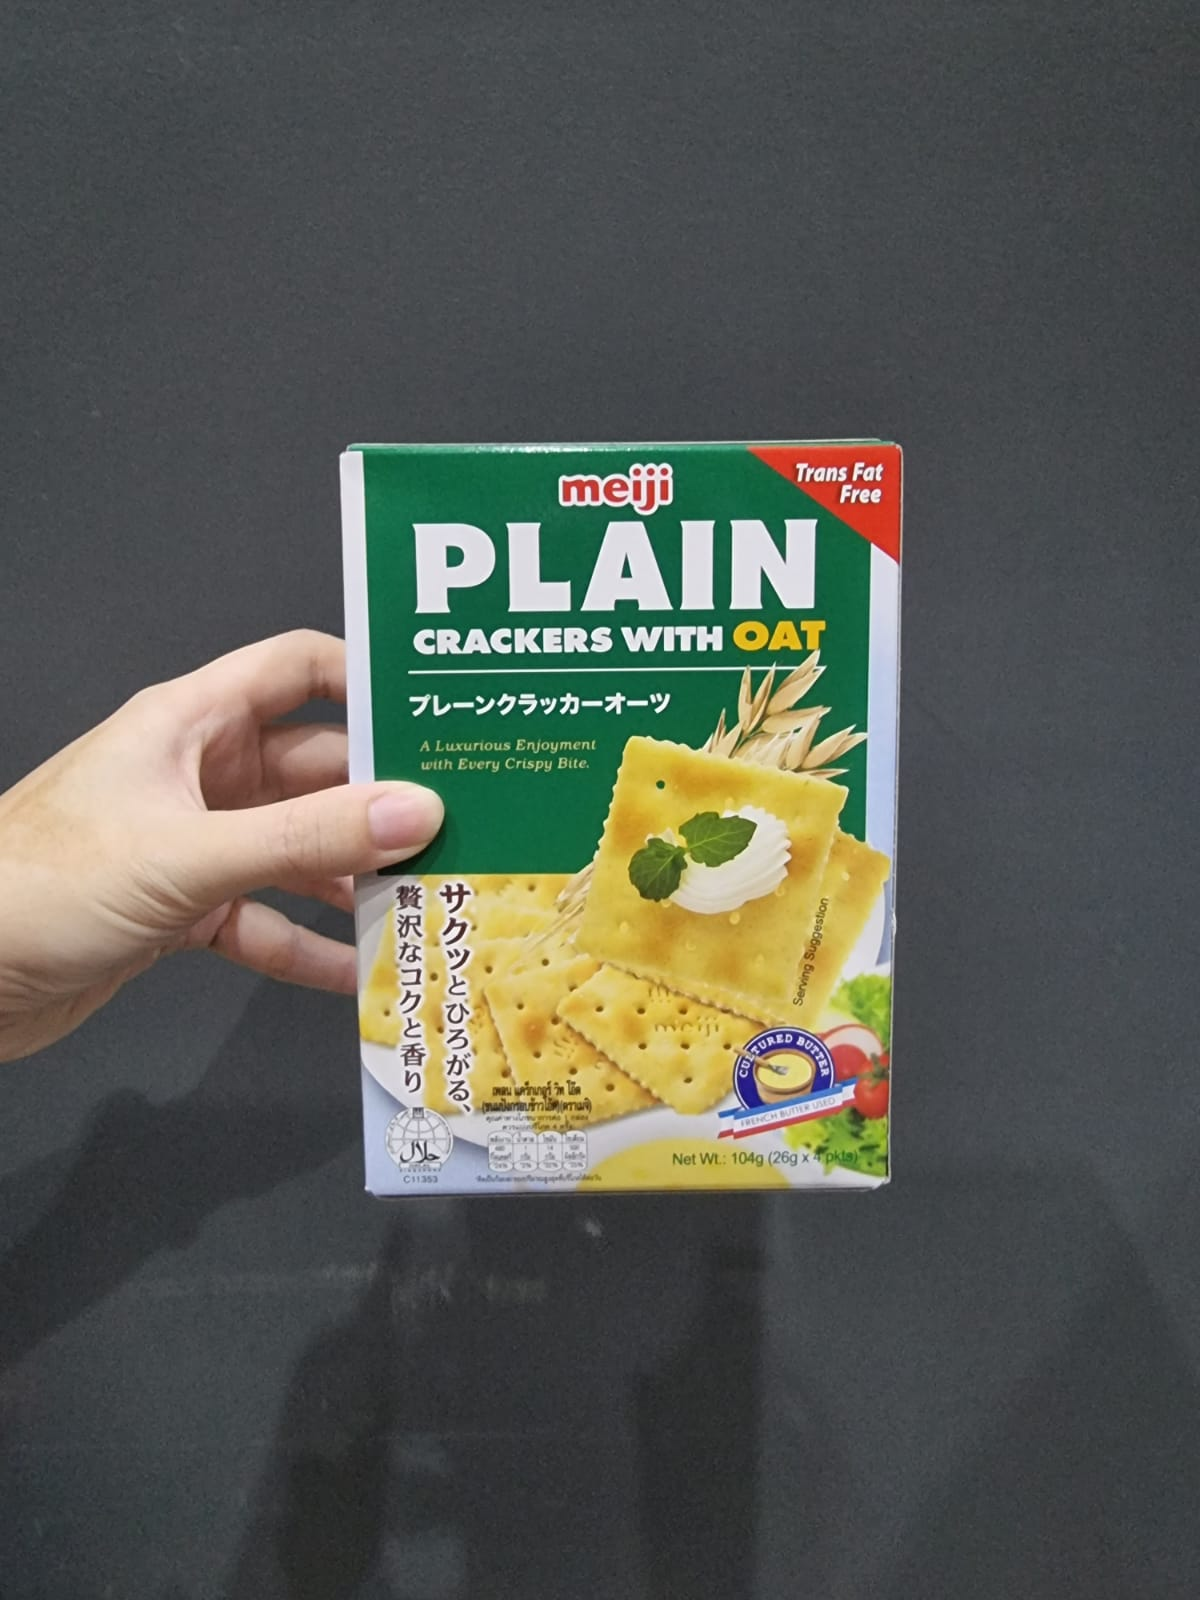Halal: (388, 1110, 453, 1170)
